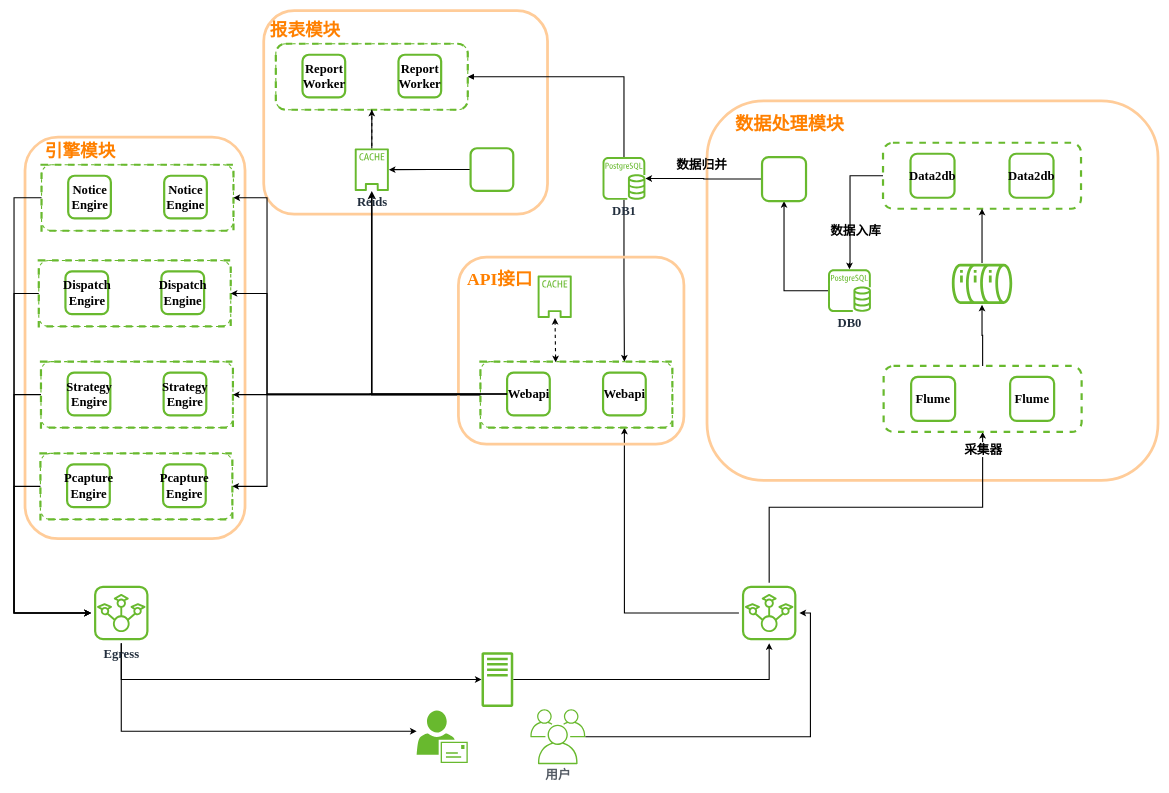
Image size: 1169x793. Some labels were removed from this diagram. The shapes that lost their labels are listed below. From the top down, each one's box as (x1, y1, x2, y2) in pixels, then its label:
(469, 147, 514, 192): Report Beat
(761, 156, 807, 202): Dbservice
(537, 275, 571, 318): Redis
(952, 263, 1012, 304): 数据总线 Kafka
(738, 582, 799, 643): Ingress
(481, 652, 513, 707): 设备
(416, 710, 468, 763): 邮件
